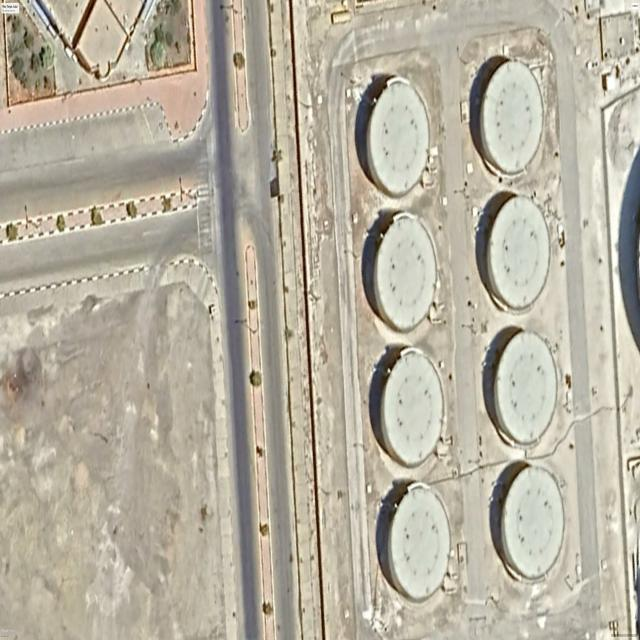Oil Rafinery: (380, 348, 444, 467), (367, 77, 429, 197), (374, 213, 436, 332), (388, 483, 450, 601), (480, 60, 543, 174), (501, 466, 564, 580), (494, 331, 557, 444), (488, 196, 549, 309)
